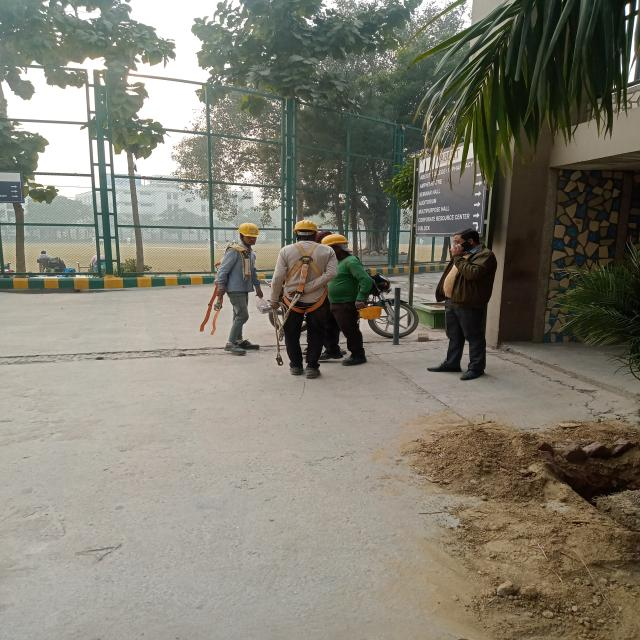no jacket: (268, 221, 331, 379), (322, 233, 374, 368), (212, 222, 264, 352)
unsafe: (428, 229, 495, 381)
